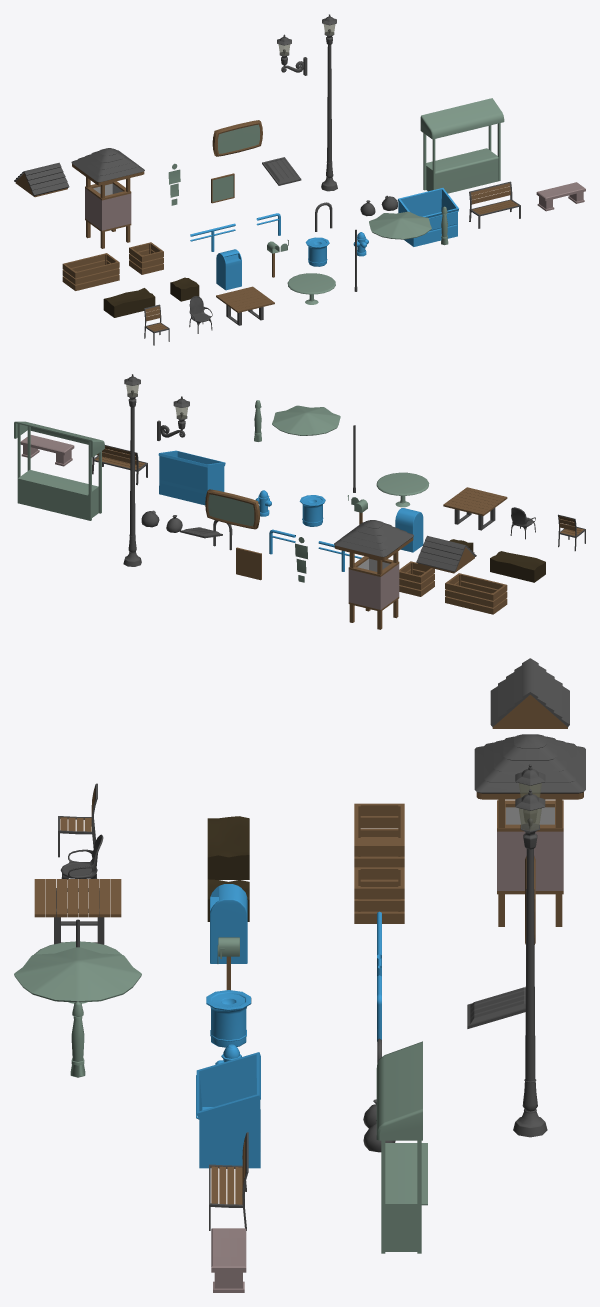
The model's file is StreetPropsID.fbx.
3 views of the same model, one above another, from view 1: azimuth 30°, elevation 25°; view 2: azimuth 150°, elevation 25°; view 3: azimuth 270°, elevation 25° (orthographic). The views are drawn at different scales.
Visible parts, largest first — view 1: Stall, InfoStall, Dumpster, SquareSmallRoof, WoodCrateLong, Sign, UmbrellaOpen, TriangleSmallRoof, WoodTable, LampPost, BenchWood, BoxSoilBig (+11 smaller); view 2: Stall, InfoStall, Dumpster, SquareSmallRoof, WoodCrateLong, Sign, UmbrellaOpen, TriangleSmallRoof, WoodTable, LampPost, BoxSoilBig, RoundTable (+9 smaller); view 3: Stall, Dumpster, SquareSmallRoof, InfoStall, UmbrellaOpen, TriangleSmallRoof, LampPost, WoodTable, WoodCrateLong, WoodCrate, BoxSoilBig, PostalMailBox (+7 smaller).
Part boxes in pixels (x1,y1,x2,y2): Stall: [420, 98, 504, 193]; InfoStall: [85, 177, 131, 248]; Dumpster: [397, 188, 458, 246]; SquareSmallRoof: [71, 148, 144, 185]; WoodCrateLong: [62, 253, 119, 290]; Sign: [212, 120, 262, 156]; UmbrellaOpen: [369, 211, 431, 239]; TriangleSmallRoof: [14, 162, 69, 197]; WoodTable: [216, 286, 274, 325]; LampPost: [321, 14, 337, 191]; BenchWood: [469, 181, 520, 228]; BoxSoilBig: [103, 288, 155, 317]; Stall: [14, 421, 104, 520]; InfoStall: [348, 551, 399, 629]; Dumpster: [158, 450, 225, 505]; SquareSmallRoof: [334, 520, 413, 560]; WoodCrateLong: [445, 573, 507, 614]; Sign: [205, 489, 259, 529]; UmbrellaOpen: [272, 405, 340, 435]; TriangleSmallRoof: [416, 535, 476, 573]; WoodTable: [443, 487, 507, 530]; LampPost: [123, 374, 141, 566]; BoxSoilBig: [490, 551, 545, 582]; RoundTable: [376, 472, 429, 507]; Stall: [376, 1041, 427, 1253]; Dumpster: [196, 1052, 260, 1168]; SquareSmallRoof: [474, 734, 585, 799]; InfoStall: [497, 799, 563, 926]; UmbrellaOpen: [14, 947, 141, 1002]; TriangleSmallRoof: [490, 658, 569, 728]; LampPost: [513, 789, 547, 1137]; WoodTable: [34, 879, 121, 944]; WoodCrateLong: [354, 803, 404, 867]; WoodCrate: [354, 867, 404, 923]; BoxSoilBig: [207, 816, 249, 879]; PostalMailBox: [210, 884, 247, 963].
Size of the model in its own units: 21.71 by 7.61 by 11.38.
